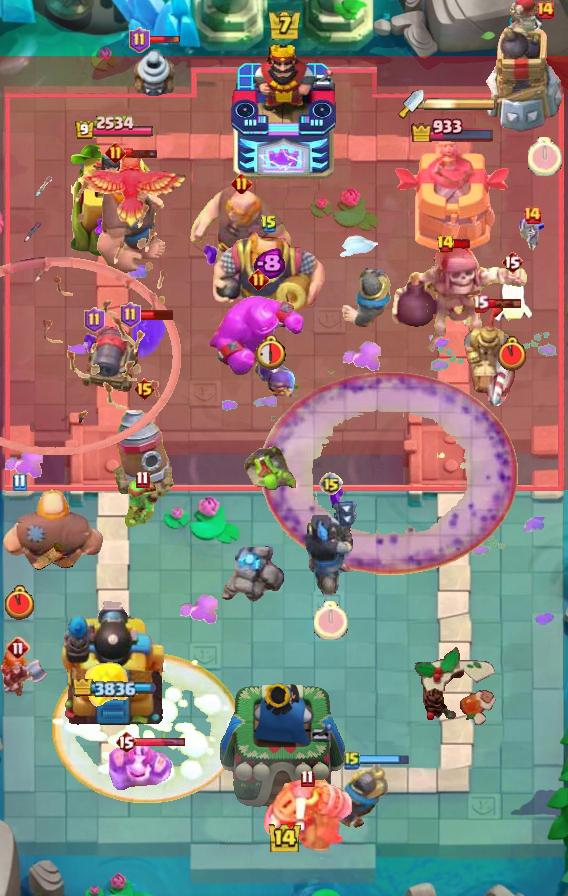balloon: (187, 183, 295, 283), (0, 487, 106, 577), (93, 167, 167, 275)
bar: (394, 142, 512, 256)
bar-level: (242, 443, 300, 491)
bat: (491, 270, 533, 324)
clone: (207, 293, 309, 377)
electro-giant: (388, 242, 530, 356)
electro-spirit: (253, 248, 285, 280)
elixir: (528, 136, 562, 175), (314, 600, 348, 639), (252, 333, 286, 371), (5, 585, 34, 619), (498, 336, 526, 371)
elixir-golem-small: (109, 739, 175, 793)
emote: (134, 736, 186, 748), (358, 754, 410, 765), (138, 307, 175, 320), (123, 147, 159, 159), (486, 299, 522, 310), (147, 35, 181, 45), (452, 238, 471, 250)
firecracker: (338, 760, 390, 830), (340, 267, 391, 327)
firecracker-evolution: (254, 355, 296, 398)
giant-skeleton: (211, 227, 327, 327)
giant-snowball: (125, 479, 159, 527)
goblin: (519, 215, 545, 253)
goblin-drill: (132, 44, 178, 98)
golden-knight: (77, 154, 187, 230)
hog-rider: (0, 650, 50, 698)
inferno-dragon: (302, 497, 360, 597)
king-tower: (219, 678, 349, 826), (230, 41, 338, 181)
king-tower-bar: (424, 97, 496, 111)
magic-archer: (111, 405, 177, 503)
night-witch: (260, 777, 354, 851)
phoenix-big: (50, 653, 241, 803)
queen-tower: (71, 144, 157, 255)
ram-rider: (461, 300, 521, 410)
rocket: (262, 371, 518, 575)
royal-giant-evolution: (82, 323, 140, 393)
selected: (410, 114, 496, 141), (73, 115, 154, 141), (71, 679, 156, 697)
skeleton-barrel: (0, 175, 182, 455)
spear-goblin: (126, 311, 166, 359)
text: (319, 472, 343, 496), (6, 636, 30, 660), (83, 307, 105, 333), (132, 377, 155, 401), (130, 27, 151, 53), (119, 302, 140, 328), (501, 250, 523, 274), (115, 730, 137, 754), (105, 141, 126, 163), (231, 173, 252, 195), (247, 269, 268, 291), (535, 0, 555, 20), (522, 205, 542, 225), (436, 234, 455, 254), (260, 214, 278, 234), (471, 295, 488, 314), (344, 750, 360, 770), (12, 472, 27, 491), (300, 769, 315, 788), (135, 470, 149, 489)
tower-bar: (58, 595, 170, 731)
valkyrie: (79, 655, 139, 719)
valkyrie-evolution: (218, 546, 284, 608)
zappy: (480, 0, 567, 136)
